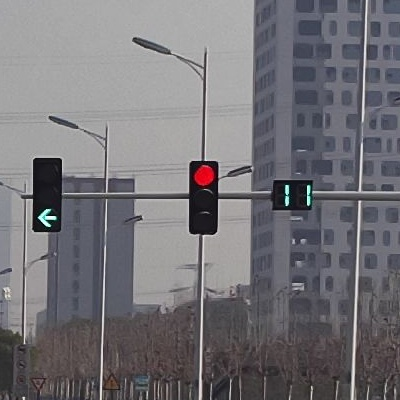green_arrow_left: (33, 158, 62, 232)
red_circle: (189, 161, 219, 235)
